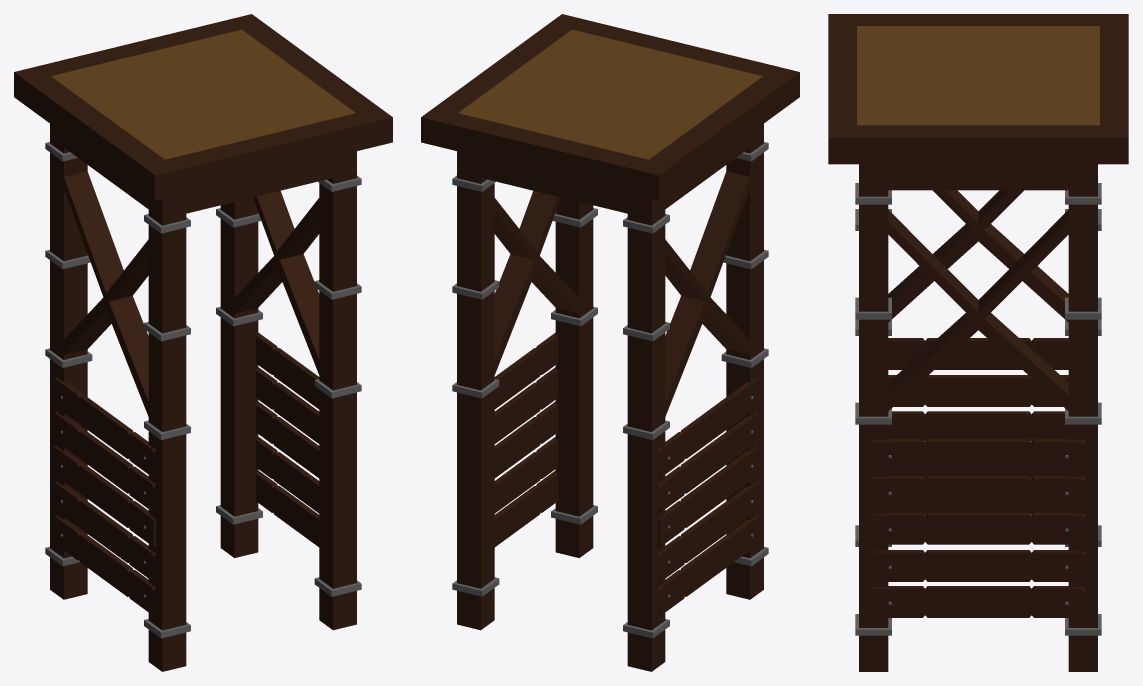
The model's file is Buildstand.fbx.
3 views of the same model, side by side, from view 1: azimuth 30°, elevation 25°; view 2: azimuth 150°, elevation 25°; view 3: azimuth 270°, elevation 25° (orthographic). The views are drawn at different scales.
Parts seen in each view (by area): view 1: Floor_Holder, Floor; view 2: Floor_Holder, Floor; view 3: Floor_Holder, Floor.
Boxes of the visible parts, x1,y1,x2,y2 form: Floor_Holder: (45, 124, 361, 671); Floor: (14, 14, 392, 200); Floor_Holder: (452, 124, 768, 671); Floor: (421, 14, 799, 200); Floor_Holder: (855, 164, 1101, 671); Floor: (828, 14, 1128, 164).
Bounding box in the file's own units: 2.79 × 5.74 × 2.86.
